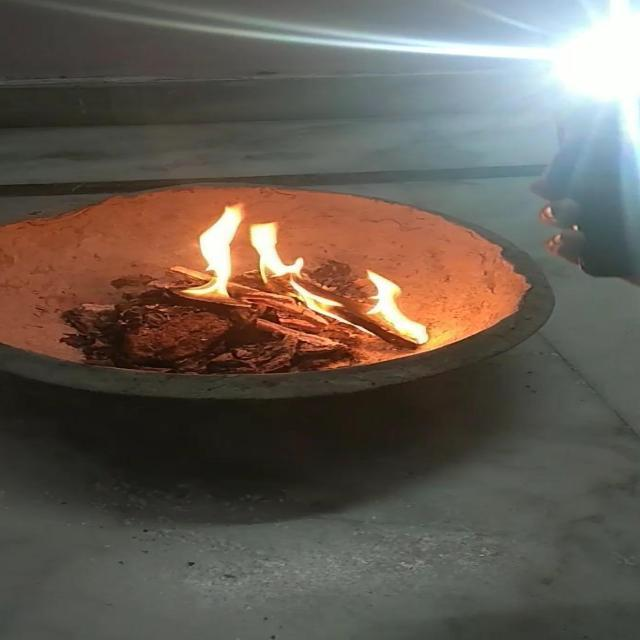smoke: (343, 267, 438, 349), (182, 198, 251, 304), (242, 216, 316, 286)
